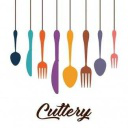fork: (105, 26, 125, 73)
